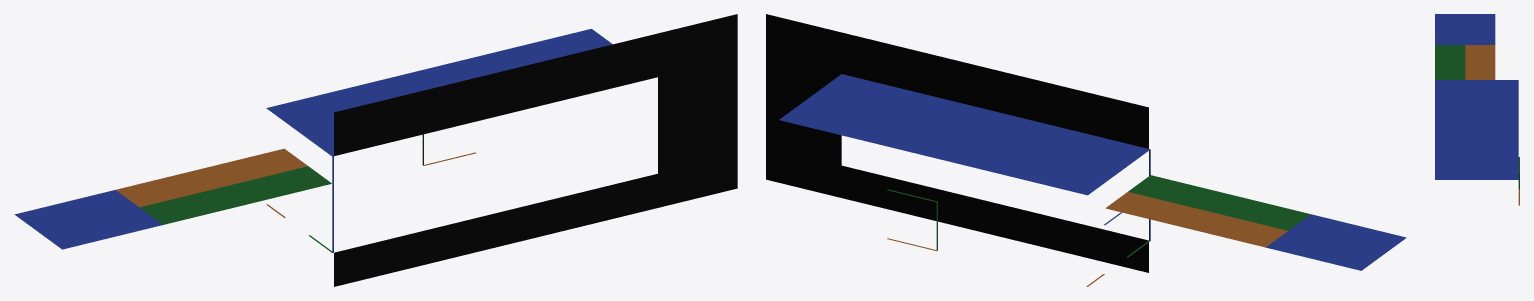
Rendered from taxidermy huone+tutorial huone katto.fbx.
The picture shows the model from 3 angles, left to right: view 1: azimuth 30°, elevation 25°; view 2: azimuth 150°, elevation 25°; view 3: azimuth 270°, elevation 25°; orthographic projection. The views are drawn at different scales.
Visible parts, largest first — view 1: Cube.005; view 2: Cube.005; view 3: Cube.005.
Part boxes in pixels (x1=…): Cube.005: x1=14, y1=14, x2=737, y2=286; Cube.005: x1=766, y1=14, x2=1406, y2=286; Cube.005: x1=1435, y1=14, x2=1519, y2=205.
Bounding box in the file's own units: 9182 × 2267 × 1588.
